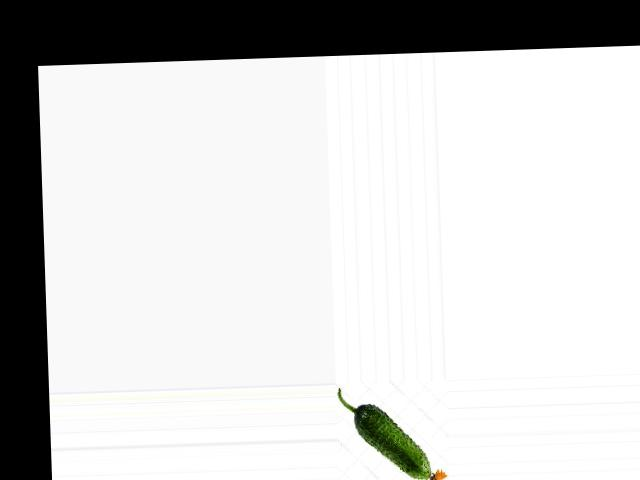cucumber: (338, 384, 448, 480)
